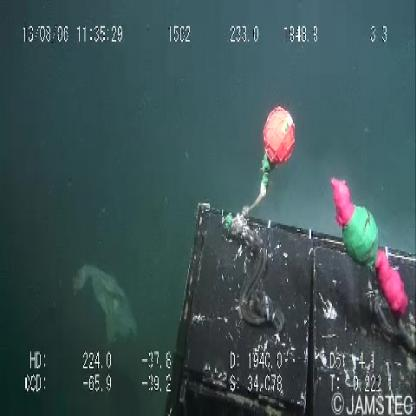Rov: (160, 94, 416, 416)
Rác: (69, 254, 146, 354)
